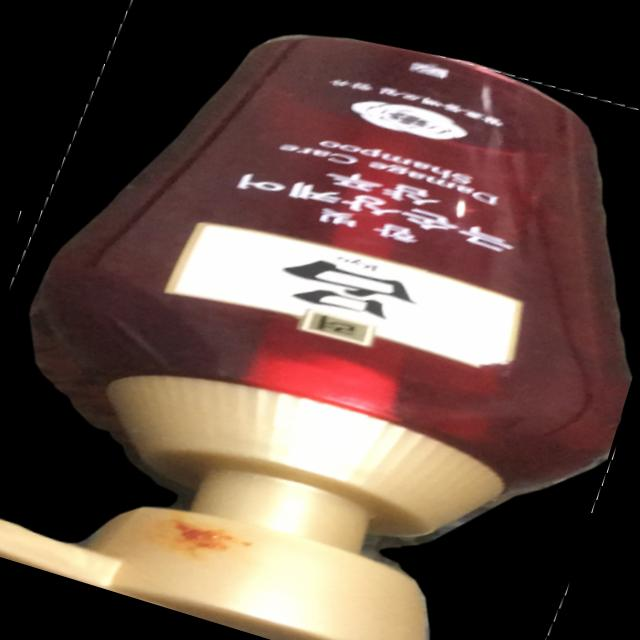plastic: (0, 22, 629, 640)
